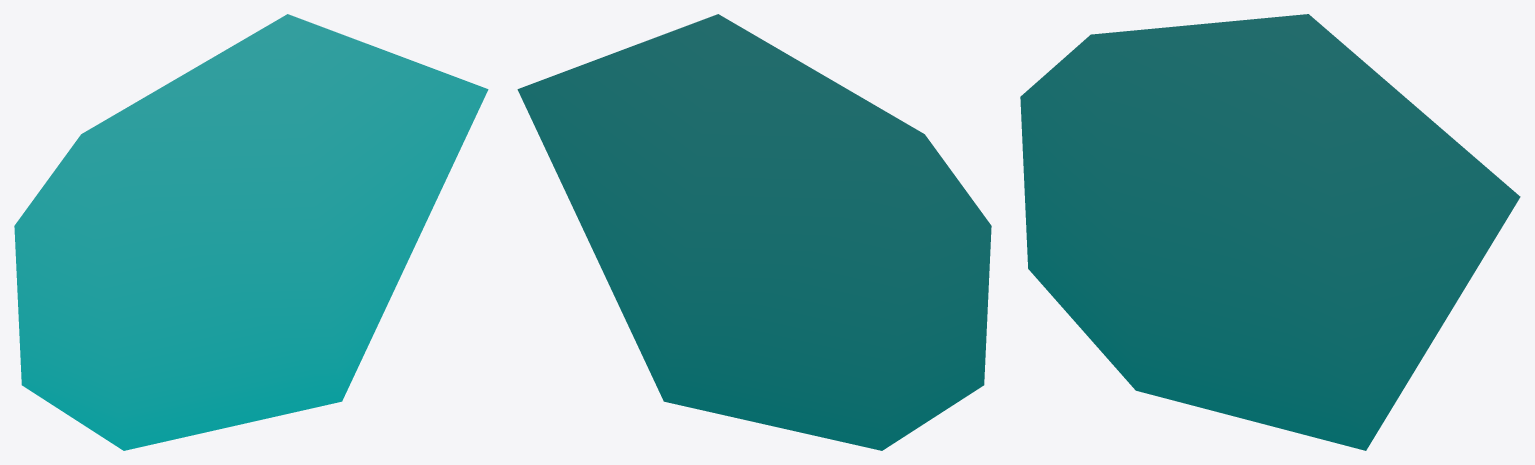
Rendered from Ribbon_Grass_tbdpec3r_High_tbdpec3r_VarE_LOD2.glb.
3 renders of one model, left to right at view 1: azimuth 30°, elevation 25°; view 2: azimuth 150°, elevation 25°; view 3: azimuth 330°, elevation 25°, orthographic. The views are drawn at different scales.
Parts seen in each view (by area): view 1: _8f3e_VarE_LOD3; view 2: _8f3e_VarE_LOD3; view 3: _8f3e_VarE_LOD3.
Part boxes in pixels (x1=…): _8f3e_VarE_LOD3: x1=14, y1=14, x2=488, y2=450; _8f3e_VarE_LOD3: x1=517, y1=14, x2=991, y2=450; _8f3e_VarE_LOD3: x1=1020, y1=14, x2=1520, y2=450.
Size of the model in its own units: 0.3342 by 0.27 by 3.63e-08.
